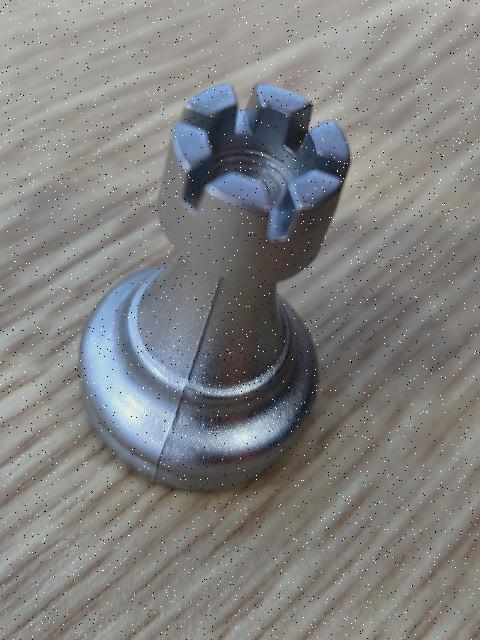white_rook: (84, 81, 352, 488)
